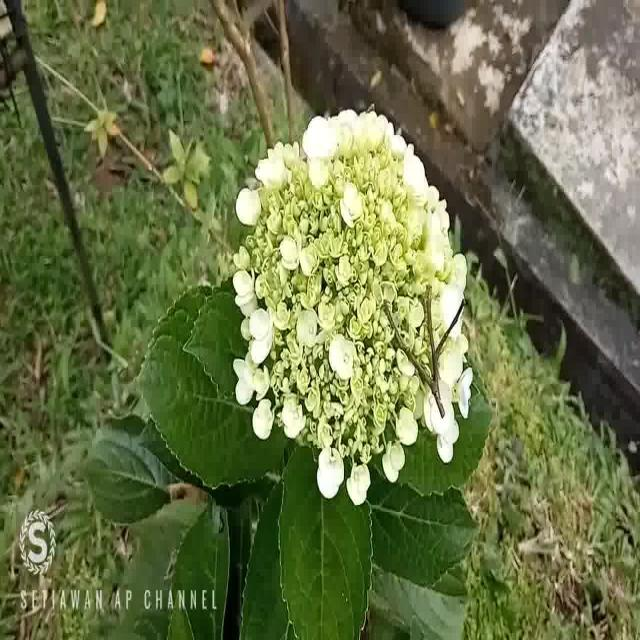Flower: (226, 97, 485, 523)
